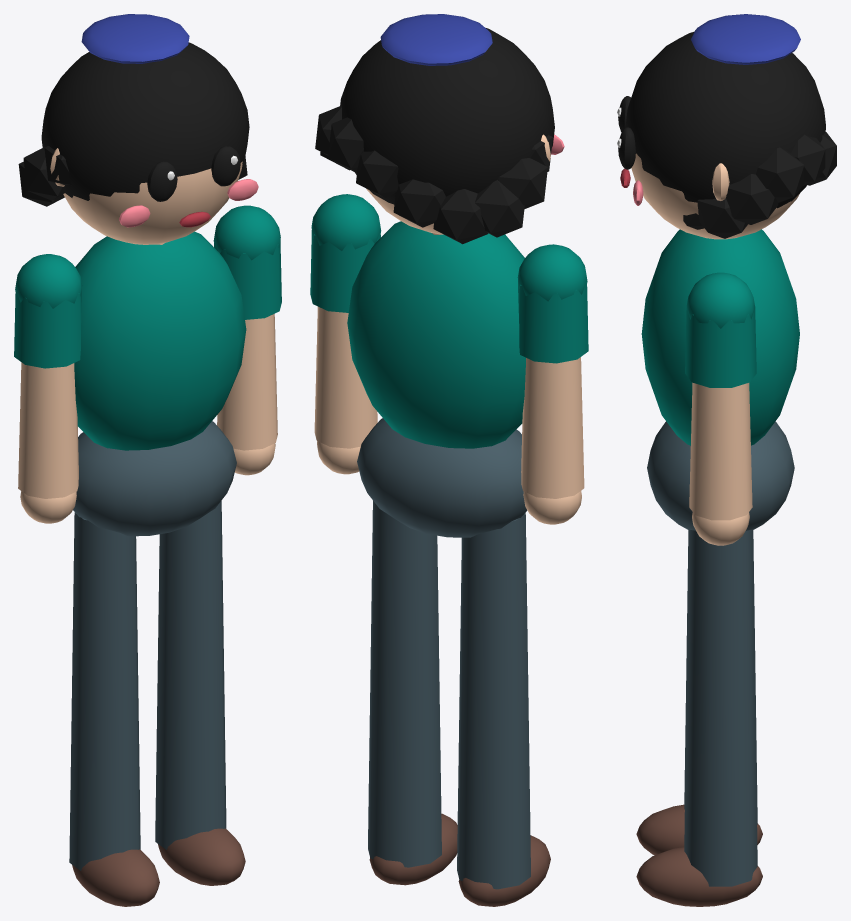
Rendered from roadevents_hitchhiker.glb.
3 views of the same model, side by side, from view 1: azimuth 30°, elevation 25°; view 2: azimuth 150°, elevation 25°; view 3: azimuth 270°, elevation 25° (orthographic). The views are drawn at different scales.
Visible parts, largest first — view 1: Body.004, Leg_R.004, Leg_L.004, Arm_R.004, Arm_L.004; view 2: Body.004, Leg_R.004, Leg_L.004, Arm_R.004, Arm_L.004; view 3: Body.004, Leg_L.004, Arm_L.004, Leg_R.004.
Boxes of the visible parts, left/top/right/bottom form: Body.004: left=18, top=14, right=258, bottom=536; Leg_R.004: left=69, top=512, right=159, bottom=906; Leg_L.004: left=155, top=501, right=245, bottom=885; Arm_R.004: left=14, top=254, right=82, bottom=523; Arm_L.004: left=213, top=205, right=281, bottom=475; Body.004: left=315, top=14, right=564, bottom=537; Leg_R.004: left=457, top=513, right=550, bottom=906; Leg_L.004: left=368, top=501, right=457, bottom=885; Arm_R.004: left=517, top=244, right=588, bottom=524; Arm_L.004: left=310, top=194, right=381, bottom=474; Body.004: left=617, top=14, right=836, bottom=530; Leg_L.004: left=636, top=529, right=762, bottom=906; Arm_L.004: left=685, top=272, right=756, bottom=545; Leg_R.004: left=636, top=530, right=762, bottom=855.
Size of the model in its own units: 0.57 by 1.78 by 0.4166.
